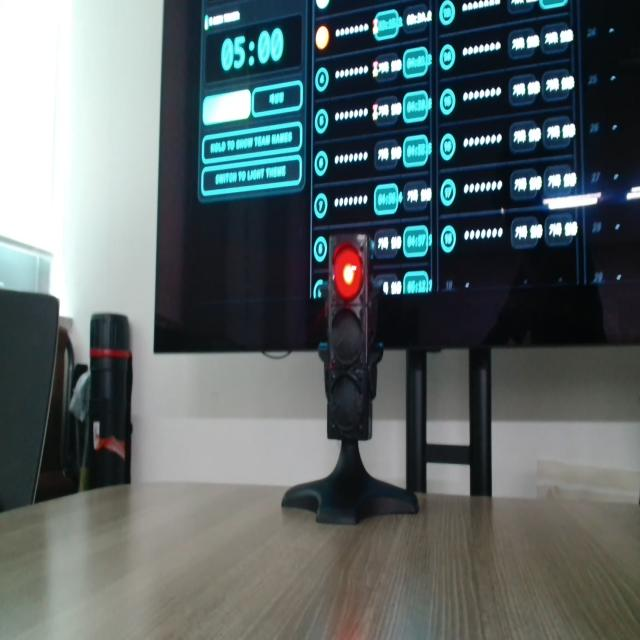red_light: (334, 243, 363, 301)
